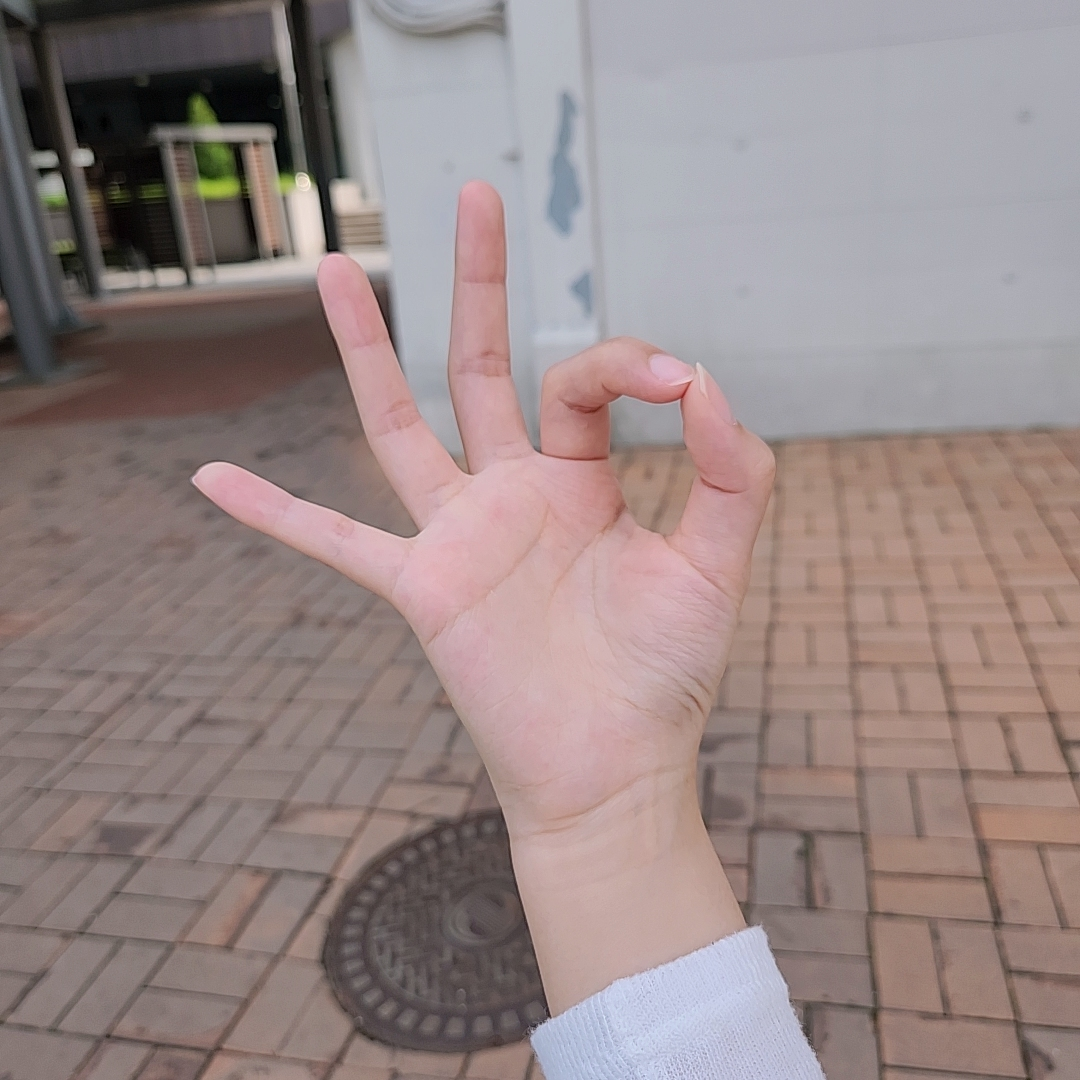see: (190, 179, 777, 795)
